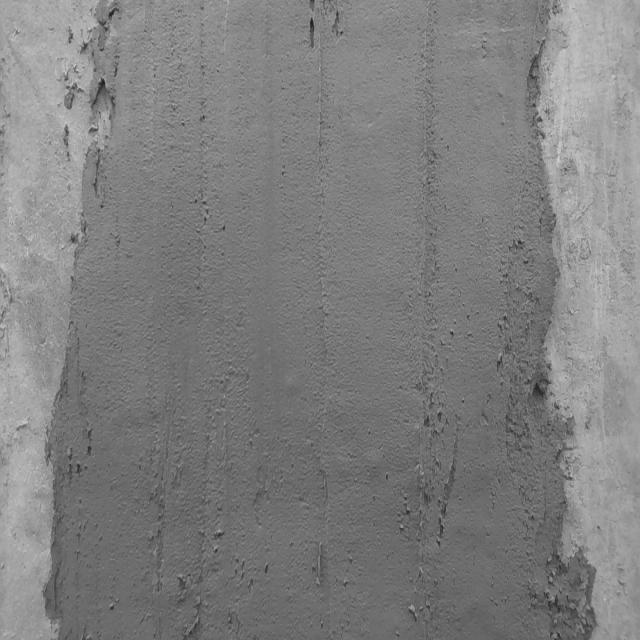trowels marks: (410, 0, 440, 352), (313, 60, 329, 598), (169, 596, 207, 640)
